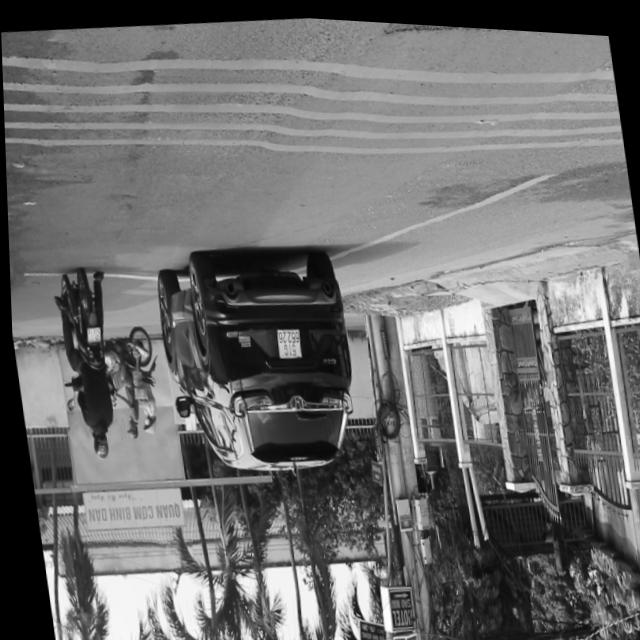helmet: (89, 430, 110, 461)
licenseplate: (49, 266, 127, 465)
nohelmet: (84, 326, 99, 342)
